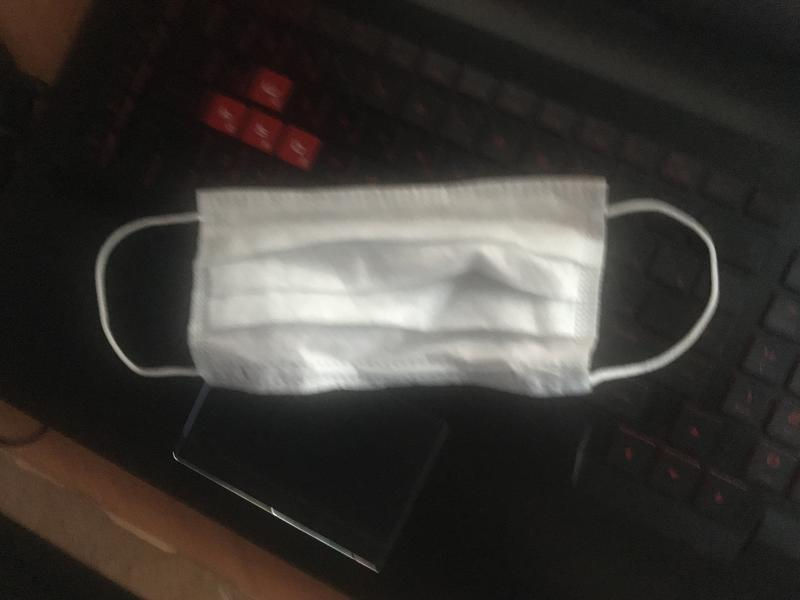medical_mask: (95, 177, 719, 393)
